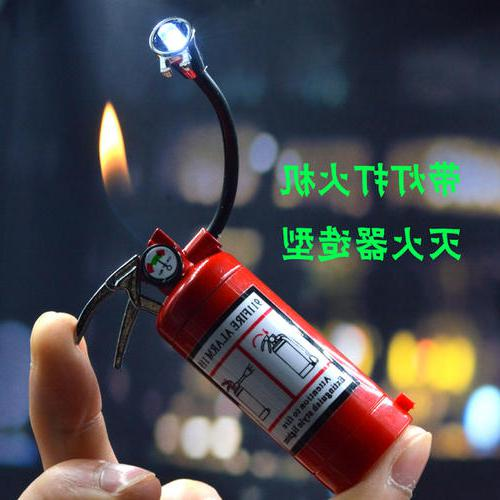fire: (87, 97, 154, 230)
